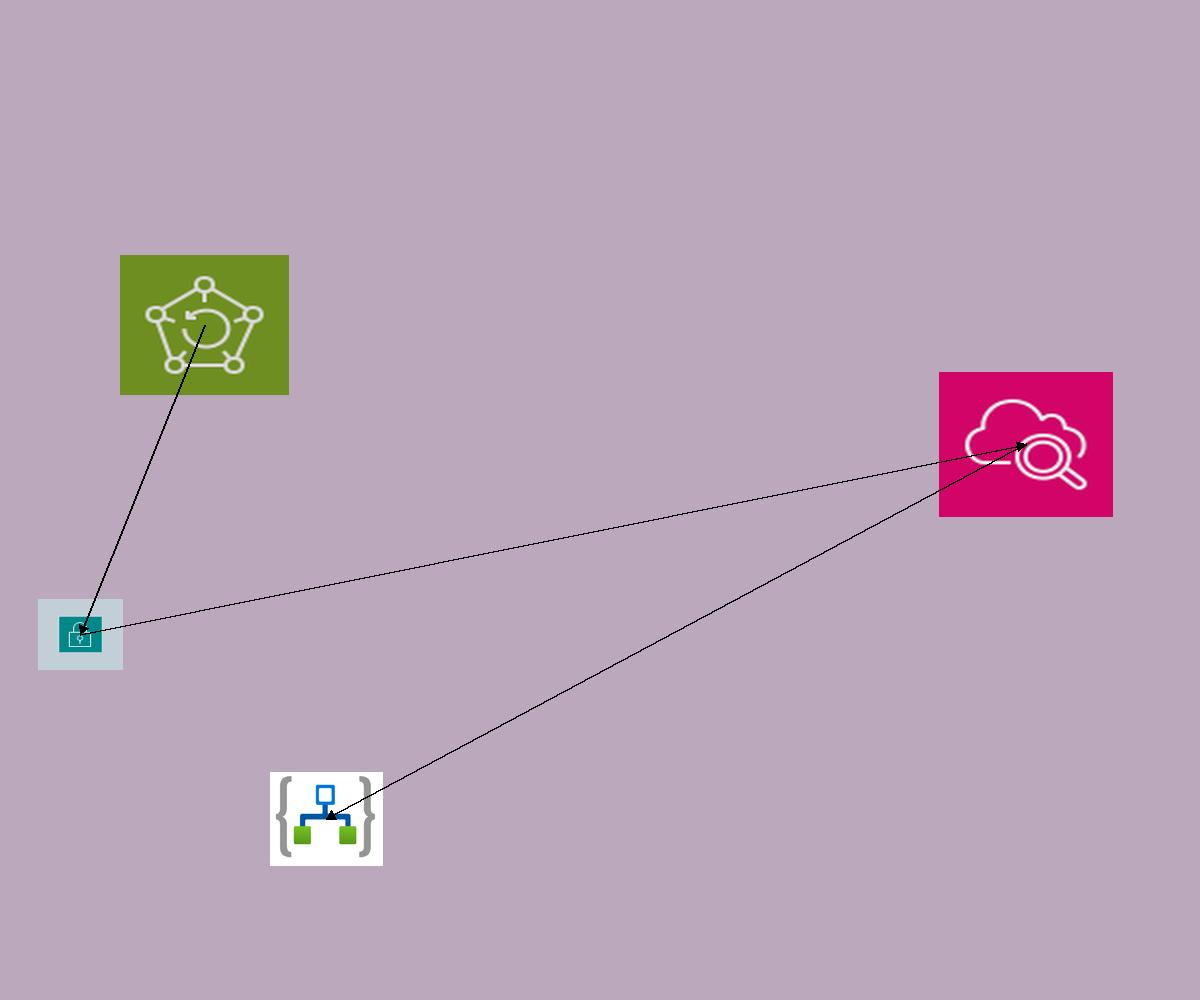AWS-Backup: (120, 255, 289, 395)
AWS-CloudWatch: (939, 372, 1113, 517)
AWS-Private-subnet: (38, 599, 123, 670)
Azure_integration-204-Logic-Apps: (270, 772, 383, 866)
